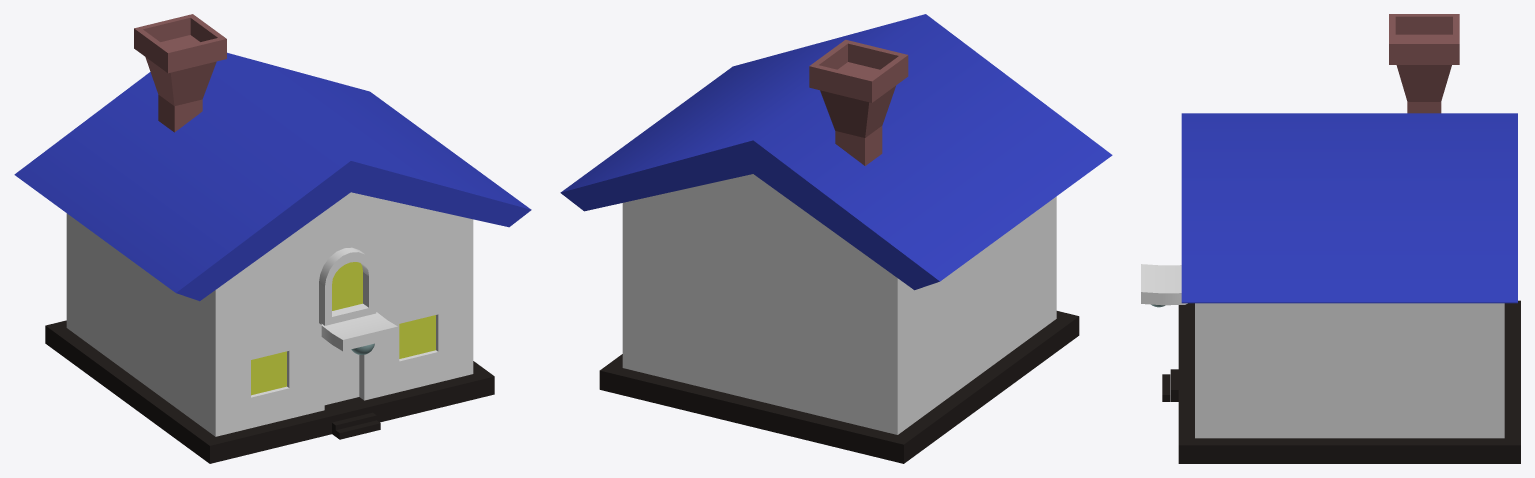
Rendered from House_2.fbx.
3 views of the same model, side by side, from view 1: azimuth 30°, elevation 25°; view 2: azimuth 150°, elevation 25°; view 3: azimuth 270°, elevation 25° (orthographic). The views are drawn at different scales.
Visible parts, largest first — view 1: polySurface11; view 2: polySurface11; view 3: polySurface11.
Part boxes in pixels (x1,y1,x2,y2): polySurface11: (14,14,531,463); polySurface11: (560,14,1112,463); polySurface11: (1141,14,1520,463).
Bounding box in the file's own units: 31.09 × 26.9 × 27.61.
